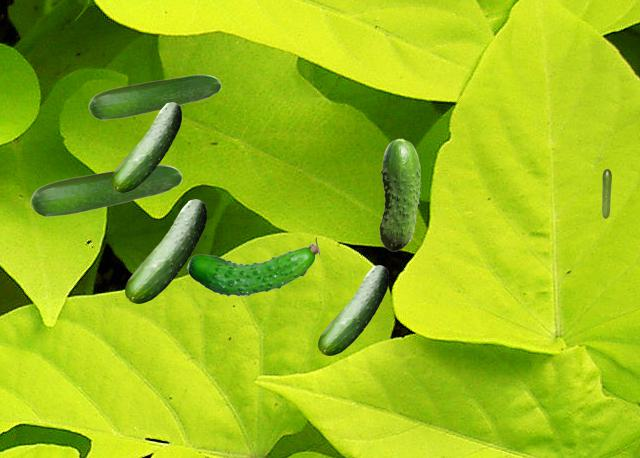cucumber: (125, 199, 205, 302), (30, 164, 181, 216), (186, 237, 318, 296), (318, 265, 387, 354), (111, 102, 180, 191), (88, 74, 220, 119), (379, 138, 420, 250), (602, 169, 610, 217)
